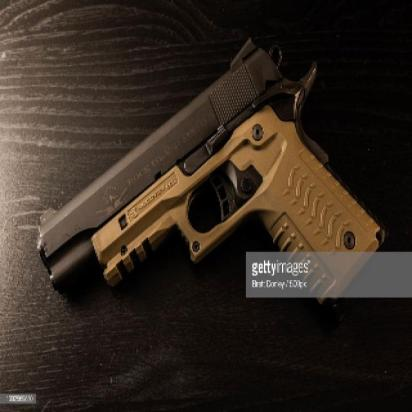Gun: (31, 30, 390, 302)
